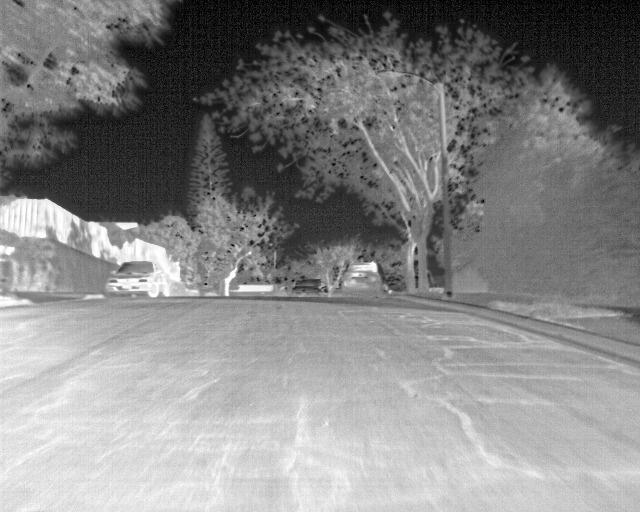car: (105, 258, 168, 298), (339, 269, 385, 298), (291, 278, 327, 295)
